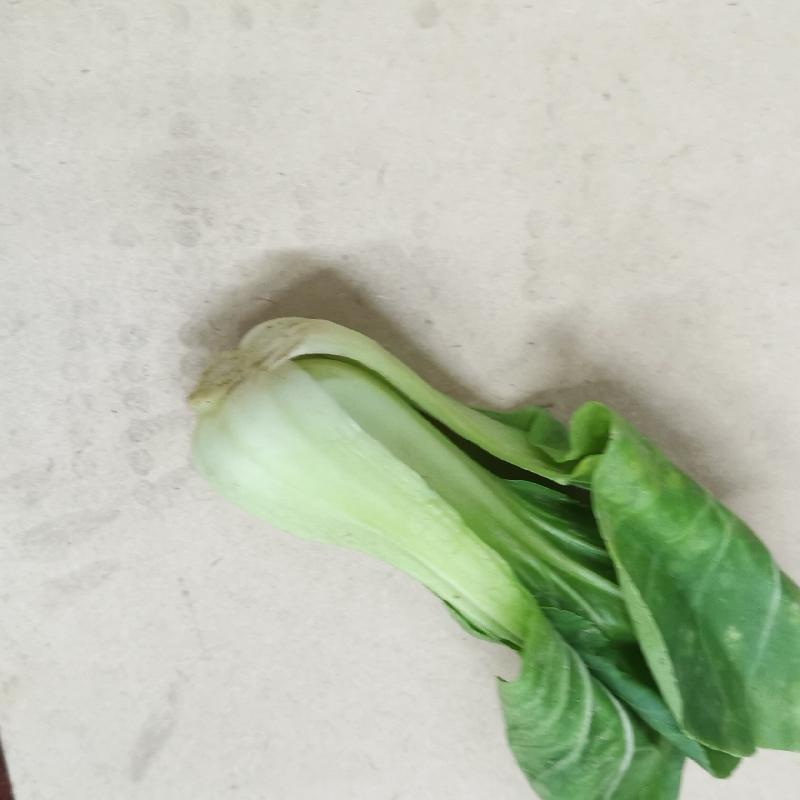green vegatable: (188, 309, 800, 800)
